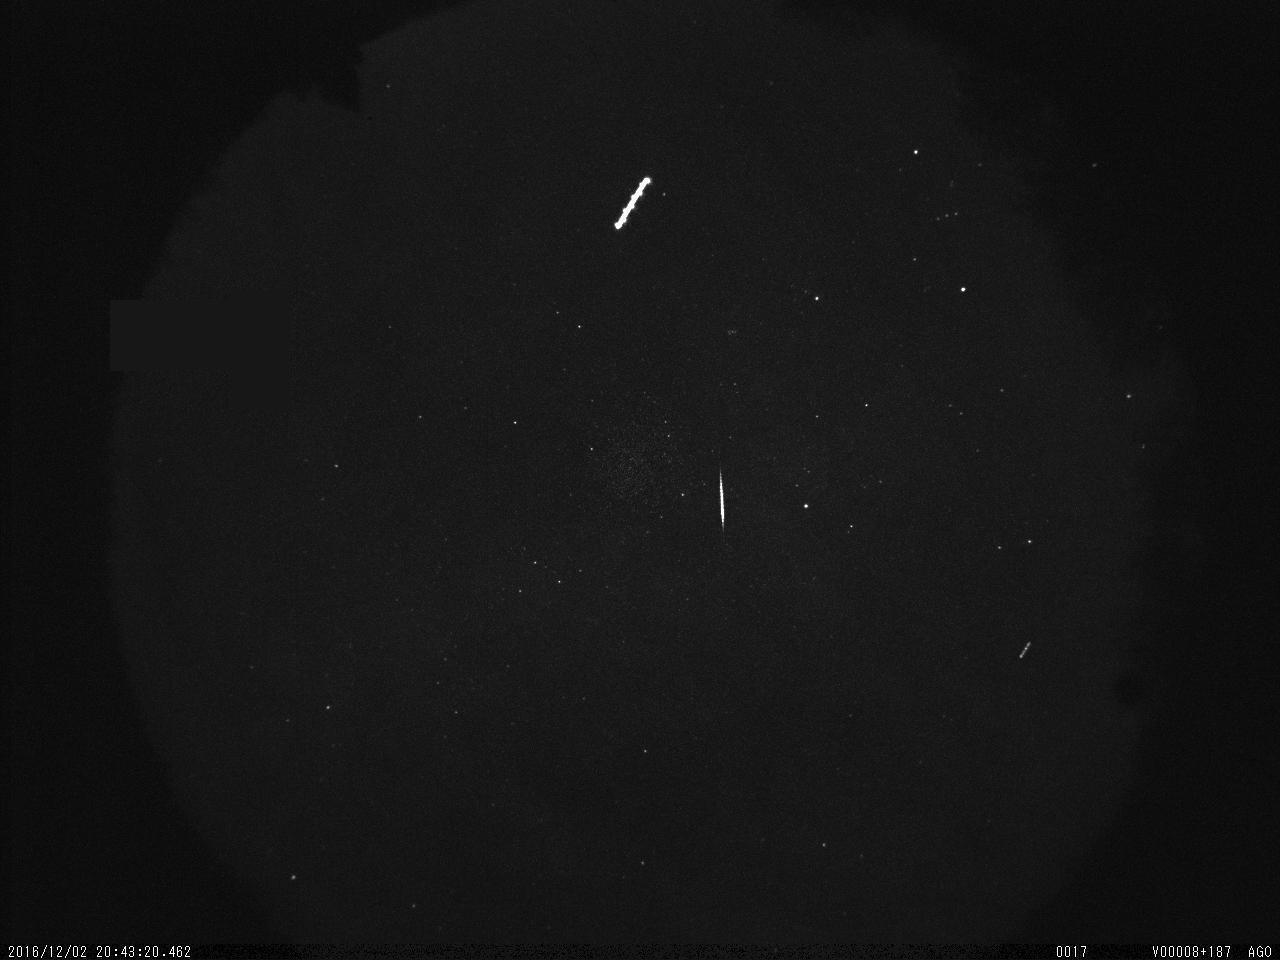Meteor: (711, 458, 732, 541)
